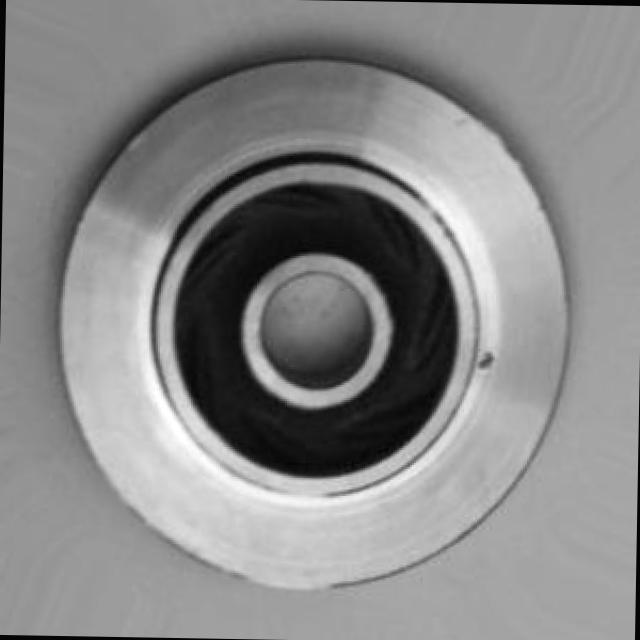Defect: (472, 345, 508, 378)
